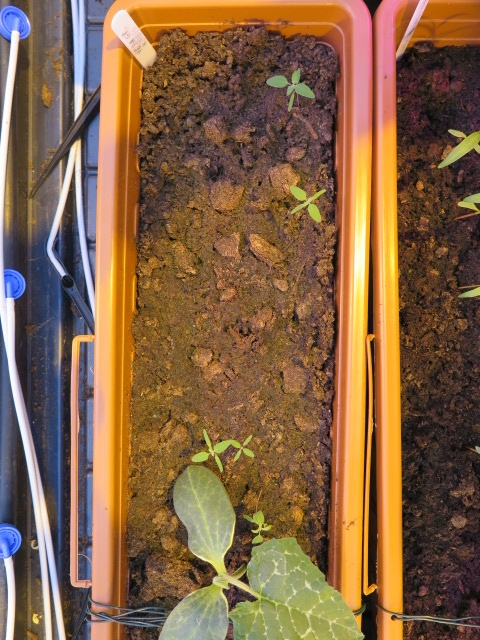weed: (264, 57, 316, 122), (287, 183, 328, 226)
